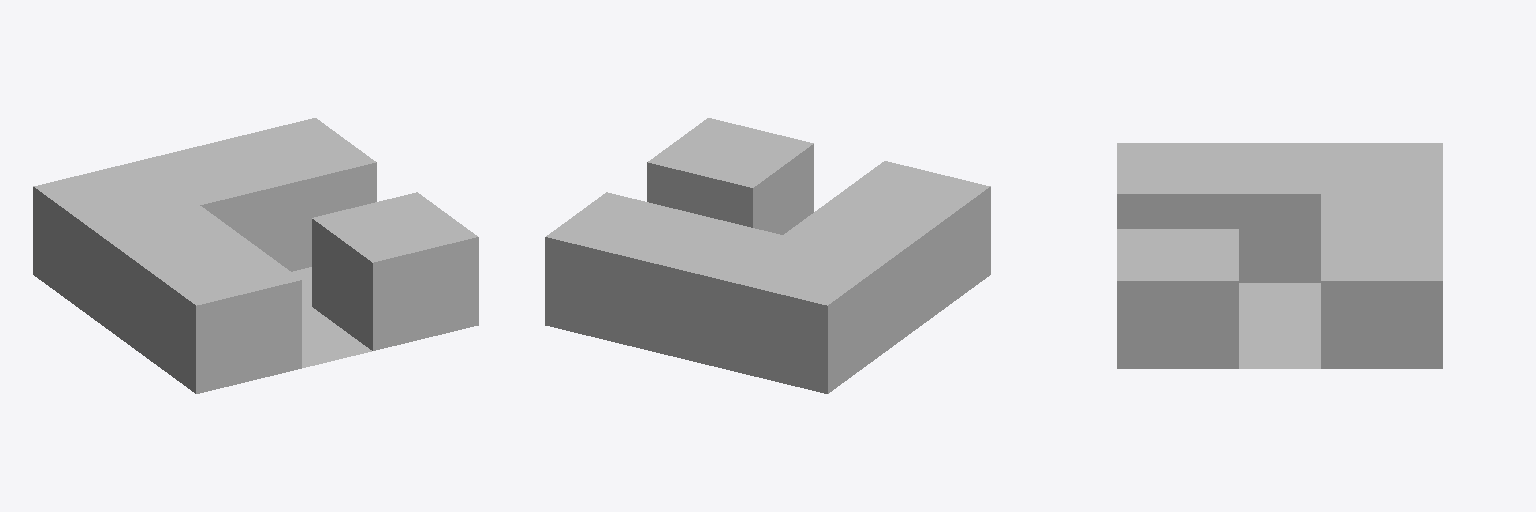
File: Cornermaze.obj
The picture shows the model from 3 angles: view 1: azimuth 30°, elevation 25°; view 2: azimuth 150°, elevation 25°; view 3: azimuth 270°, elevation 25°; orthographic projection.
Visible parts, largest first — view 1: Plane; view 2: Plane; view 3: Plane.
Boxes of the visible parts, x1=… form: Plane: x1=33, y1=118, x2=478, y2=393; Plane: x1=545, y1=118, x2=990, y2=393; Plane: x1=1117, y1=143, x2=1442, y2=368.
Size of the model in its own units: 20 by 6 by 20.